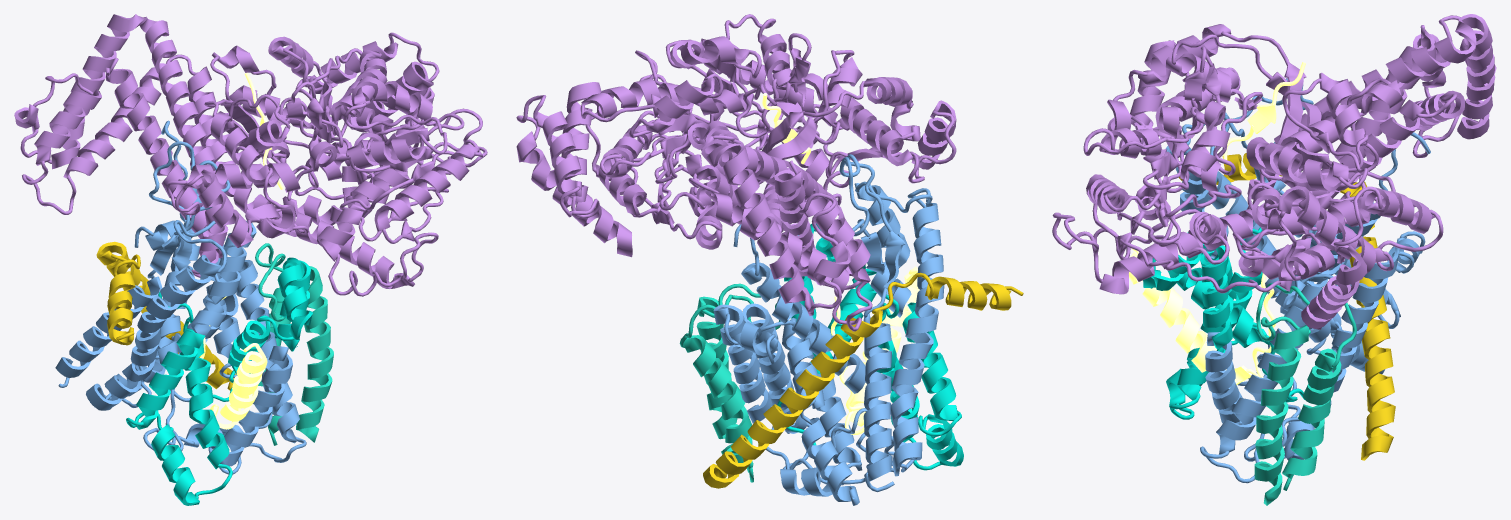
File: 3J46_assembled_pieces.glb
3 renders of one model, left to right at view 1: azimuth 30°, elevation 25°; view 2: azimuth 150°, elevation 25°; view 3: azimuth 270°, elevation 25°, orthographic. The views are drawn at different scales.
Parts seen in each view (by area): view 1: Piece_SecYEG_SecA_Motor, Piece_SecYEG_SecY, Piece_SecYEG_Lateral_Gate, Piece_SecYEG_SecG, Piece_SecYEG_SecE, Piece_SecYEG_Translocating_Preprotein; view 2: Piece_SecYEG_SecA_Motor, Piece_SecYEG_SecY, Piece_SecYEG_SecE, Piece_SecYEG_Lateral_Gate, Piece_SecYEG_SecG, Piece_SecYEG_Translocating_Preprotein; view 3: Piece_SecYEG_SecA_Motor, Piece_SecYEG_SecY, Piece_SecYEG_SecG, Piece_SecYEG_Lateral_Gate, Piece_SecYEG_SecE, Piece_SecYEG_Translocating_Preprotein.
Part boxes in pixels (box(x1,y1,x2,y2)): Piece_SecYEG_SecA_Motor: box(14, 14, 487, 296); Piece_SecYEG_SecY: box(55, 120, 306, 474); Piece_SecYEG_Lateral_Gate: box(126, 257, 312, 505); Piece_SecYEG_SecG: box(255, 243, 333, 445); Piece_SecYEG_SecE: box(96, 241, 236, 390); Piece_SecYEG_Translocating_Preprotein: box(200, 72, 283, 429); Piece_SecYEG_SecA_Motor: box(516, 14, 956, 331); Piece_SecYEG_SecY: box(713, 154, 944, 505); Piece_SecYEG_SecE: box(703, 272, 1023, 488); Piece_SecYEG_Lateral_Gate: box(777, 223, 963, 470); Piece_SecYEG_SecG: box(679, 283, 780, 482); Piece_SecYEG_Translocating_Preprotein: box(762, 93, 919, 434); Piece_SecYEG_SecA_Motor: box(1052, 14, 1496, 329); Piece_SecYEG_SecY: box(1165, 78, 1430, 483); Piece_SecYEG_SecG: box(1254, 283, 1356, 505); Piece_SecYEG_Lateral_Gate: box(1143, 227, 1304, 419); Piece_SecYEG_SecE: box(1178, 153, 1395, 460); Piece_SecYEG_Translocating_Preprotein: box(1129, 62, 1305, 384).
Bounding box in the file's own units: 9.87 × 9.37 × 8.57.
